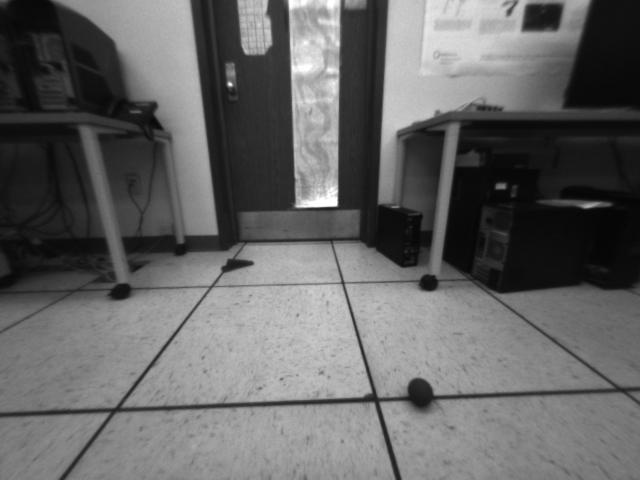dogtoy: (401, 371, 446, 413)
